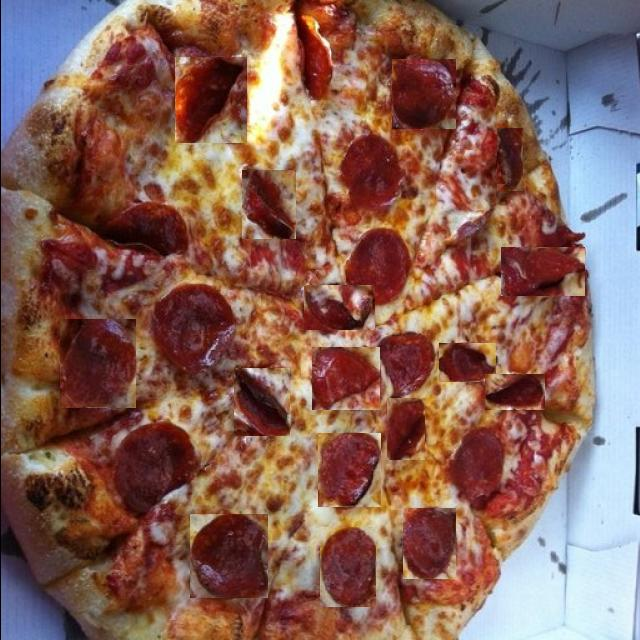pepperoni: (153, 282, 235, 368), (115, 424, 196, 511), (59, 319, 134, 408), (189, 514, 267, 598), (174, 57, 246, 143), (344, 227, 410, 304), (100, 202, 188, 258), (317, 433, 380, 507), (391, 59, 455, 130), (319, 527, 375, 607), (339, 133, 398, 207), (311, 347, 379, 410), (500, 247, 584, 296), (449, 428, 504, 500), (233, 368, 289, 436), (402, 508, 455, 579), (241, 170, 295, 239), (377, 332, 433, 398), (291, 16, 331, 99), (303, 285, 374, 330), (386, 398, 424, 460), (438, 343, 495, 382), (484, 374, 544, 410), (496, 128, 522, 191)
pizza: (0, 0, 597, 640)
